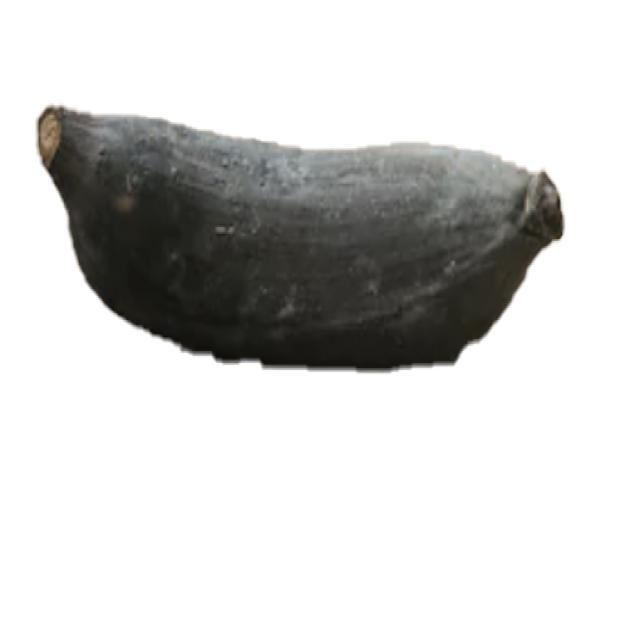rotten-banana: (35, 100, 565, 372)
